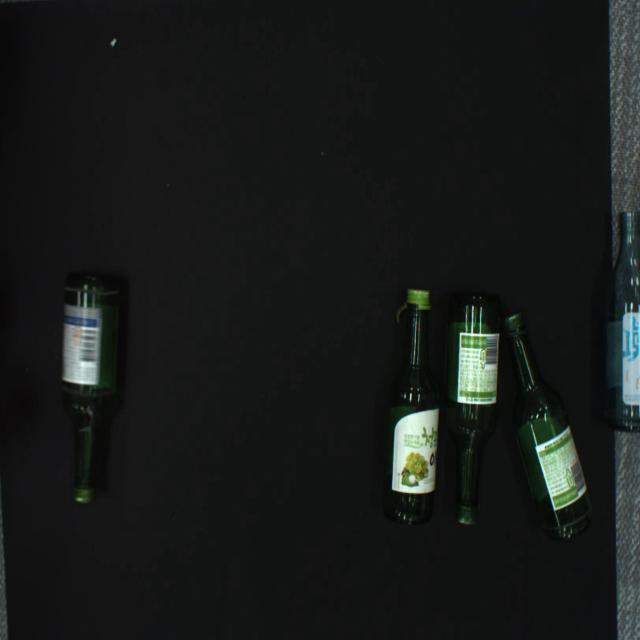soju-bottle: (502, 311, 594, 541), (60, 273, 120, 505), (382, 289, 440, 525), (441, 294, 500, 525), (601, 211, 640, 433)
